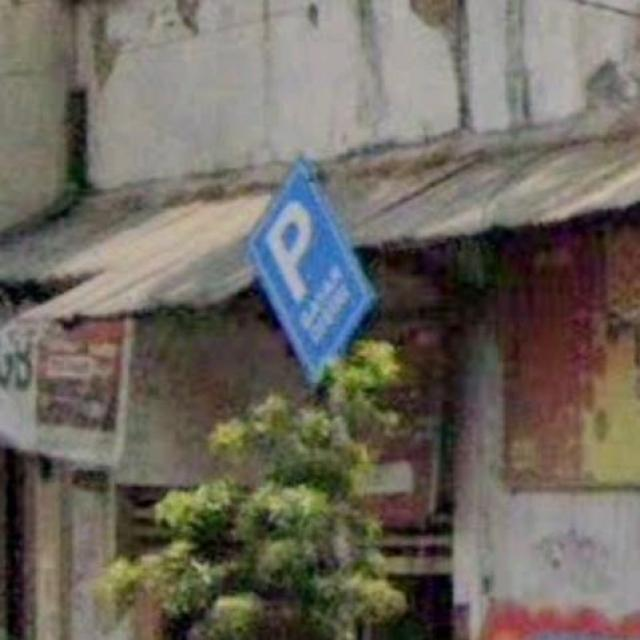traffic sign: (247, 154, 374, 381)
